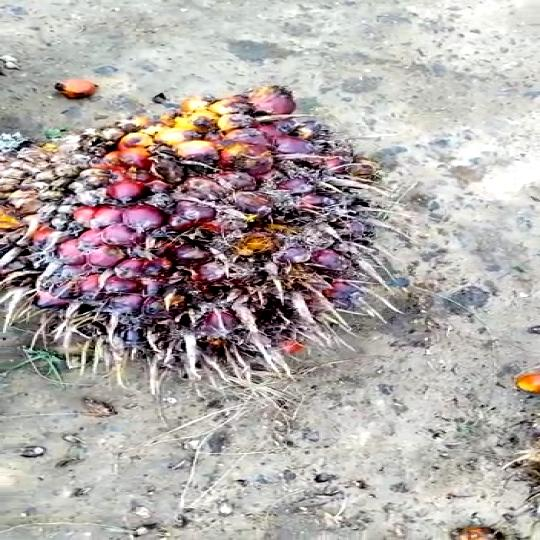masak: (0, 83, 393, 386)
